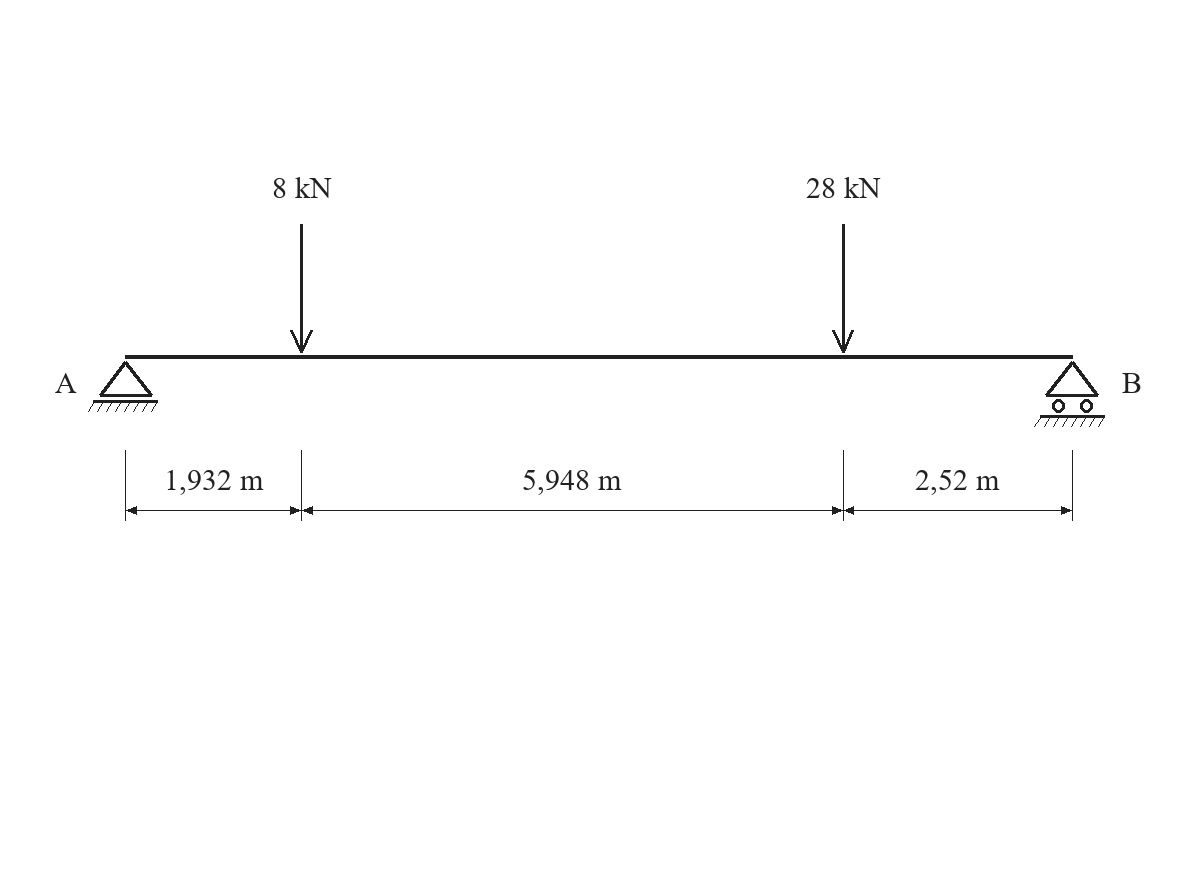pin_support: (88, 361, 158, 412)
point_load: (290, 224, 313, 353), (832, 224, 854, 353)
roller_support: (1034, 361, 1105, 427)
